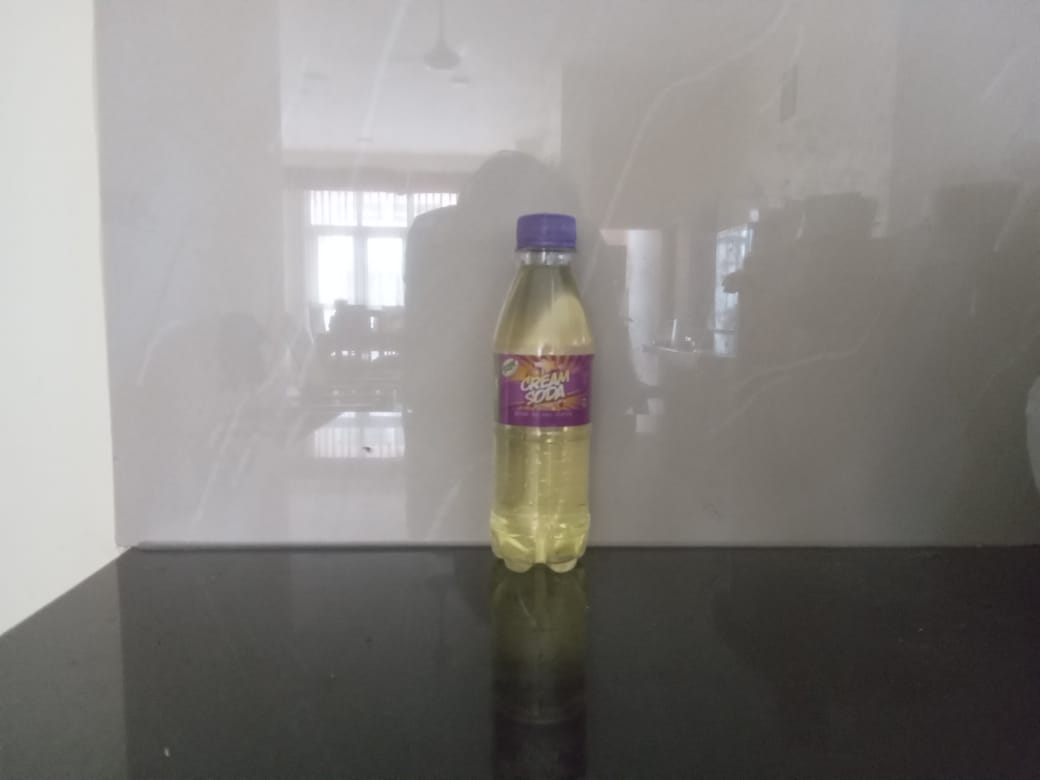Xs: (482, 212, 602, 580)
